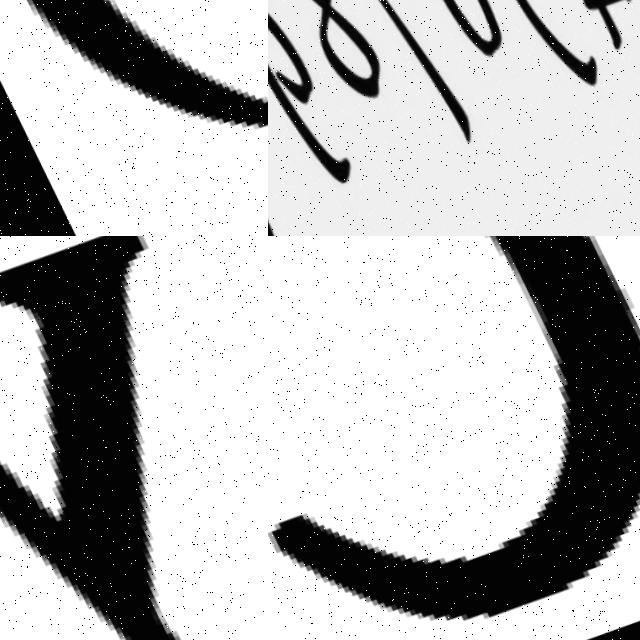5: (444, 0, 620, 110)
6: (363, 0, 531, 84)
7: (314, 0, 501, 169)
8: (268, 0, 413, 127)
9: (268, 0, 370, 204)
C: (268, 236, 640, 617)
Y: (0, 236, 268, 640)
